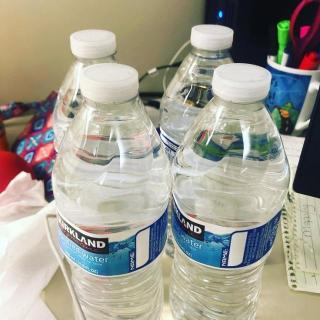Plastic-bottle: (171, 59, 295, 320), (53, 63, 174, 320), (157, 24, 239, 164)
